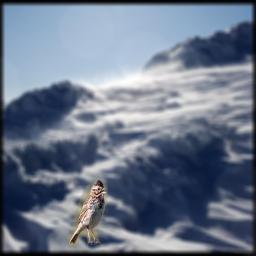Sparrow: (68, 177, 108, 248)
